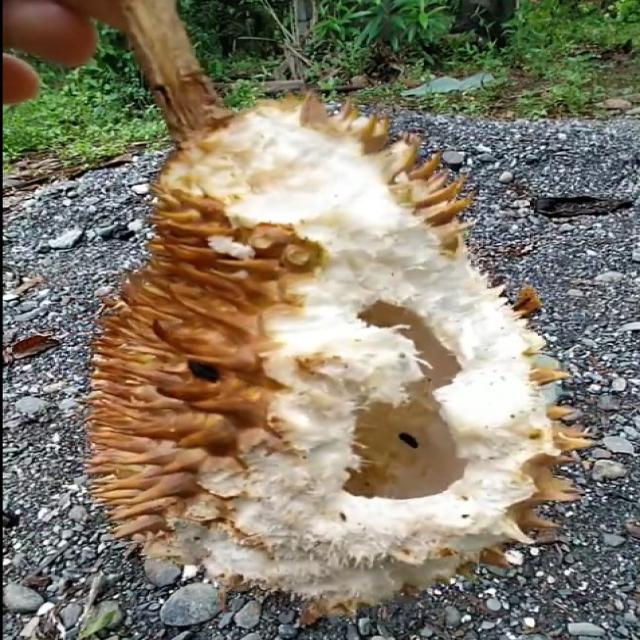defective: (78, 87, 586, 625)
